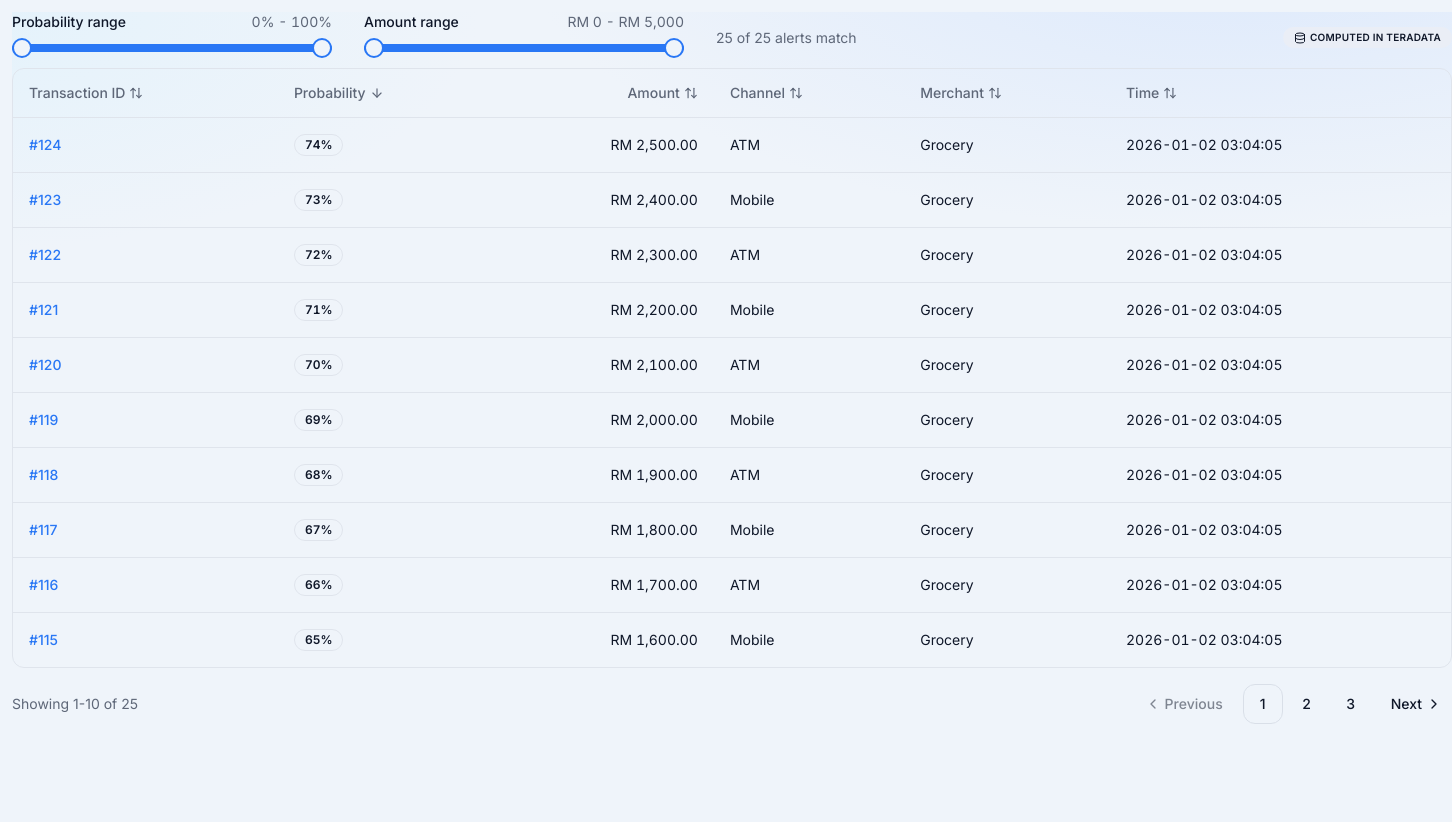
Test case: paginates 10 per page with Previous/Next and shows the range
The width and height of the screenshot is (1452, 822).
expect the text "Showing 1-10 of 25" is shown: met, box [12, 694, 138, 714]
Click the link with aria-label "Go to next page" at (1416, 703), box [1391, 694, 1442, 712]
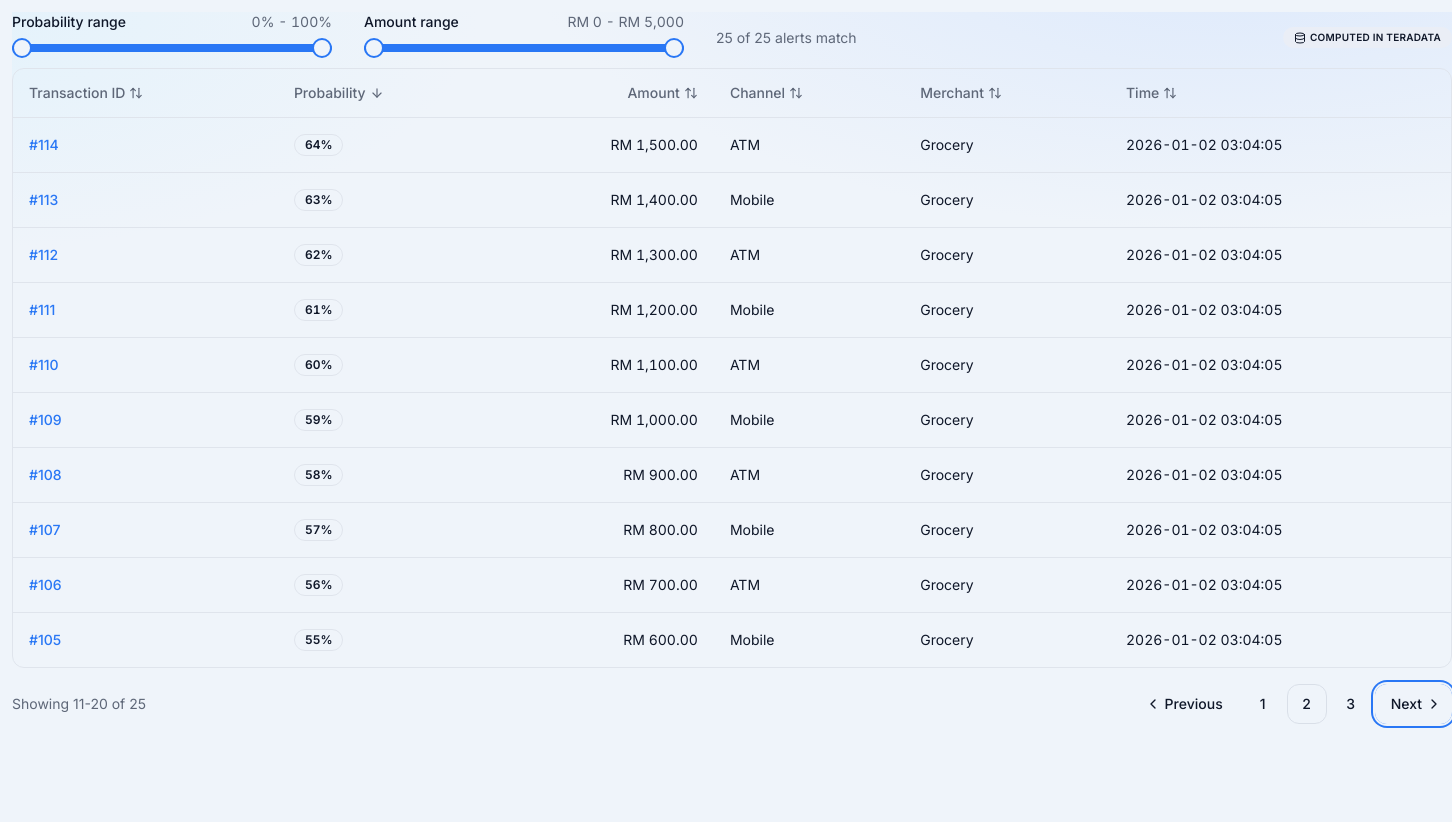
expect the text "Showing 11-20 of 25" is shown: met, box [12, 694, 146, 714]
Click the link named "Go to page 3" at (1351, 703), box [1346, 694, 1355, 712]
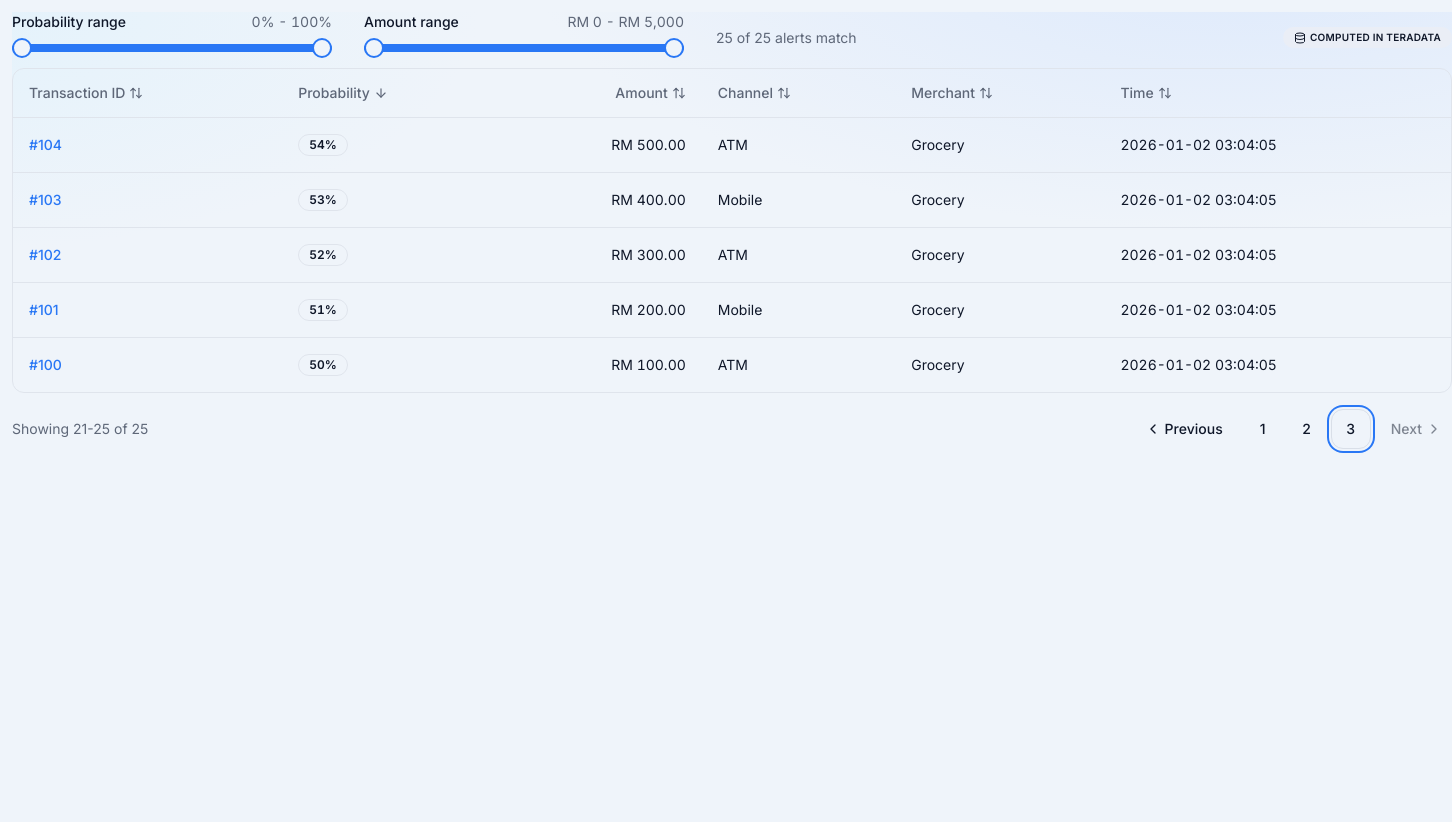
expect the text "Showing 21-25 of 25" is shown: met, box [12, 418, 148, 438]
Click the link with aria-label "Go to previous page" at (1184, 428), box [1145, 420, 1223, 436]
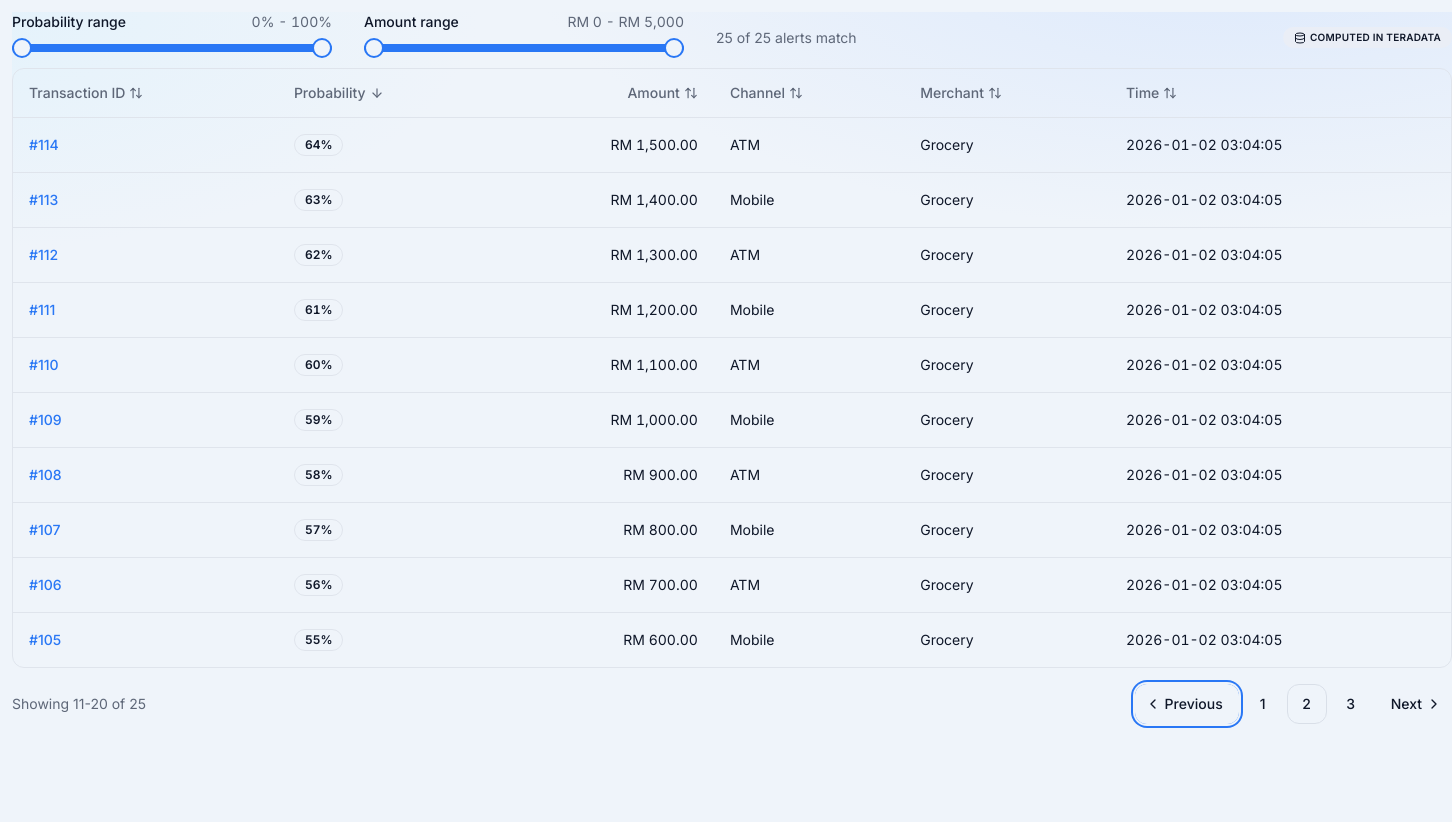
expect the text "Showing 11-20 of 25" is shown: met, box [12, 694, 146, 714]
